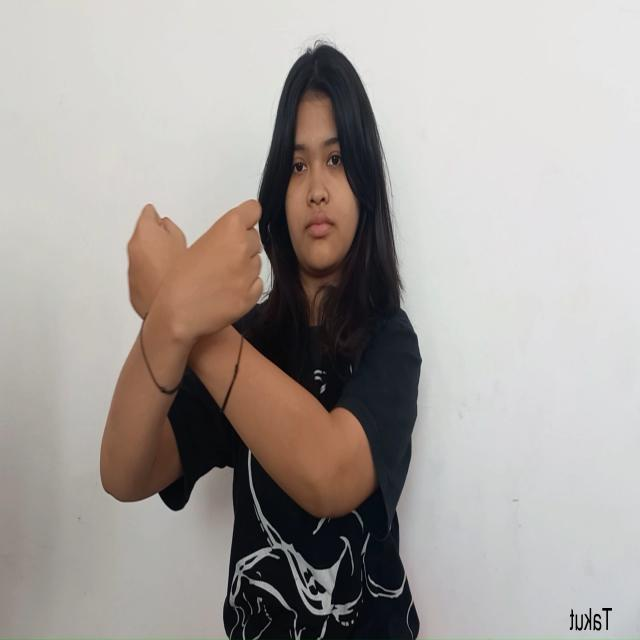Takut -BISINDO-: (126, 197, 265, 369)
